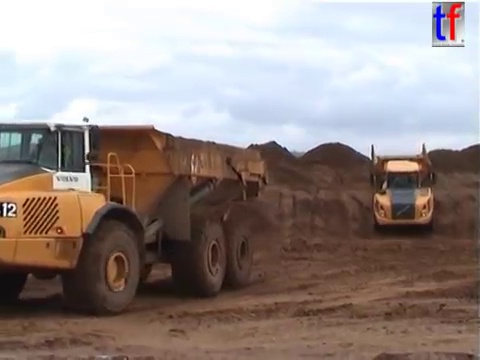truck: (1, 119, 271, 318), (367, 141, 438, 235)
